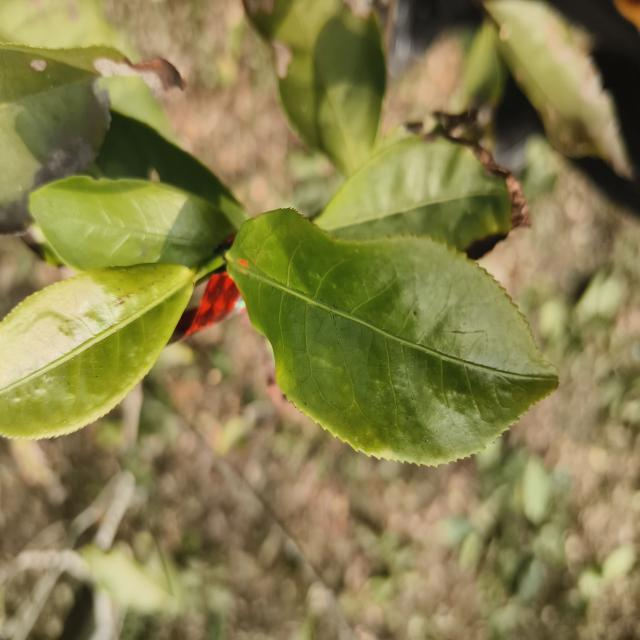Leaf: (228, 210, 557, 464), (0, 264, 193, 437), (314, 135, 530, 259), (484, 0, 633, 178), (243, 0, 386, 174), (0, 43, 129, 232), (30, 176, 235, 271)
